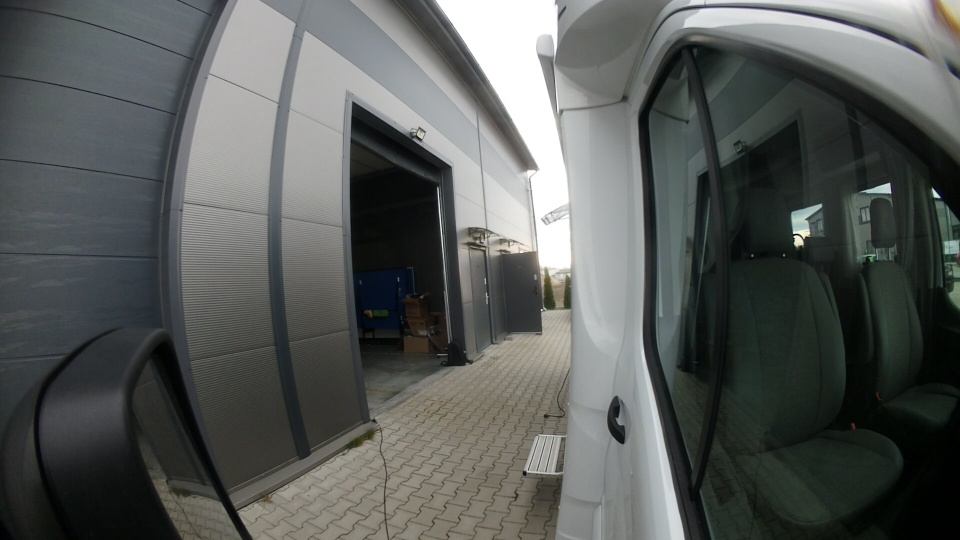step_front: (521, 426, 573, 484)
window_front: (538, 195, 582, 237)
